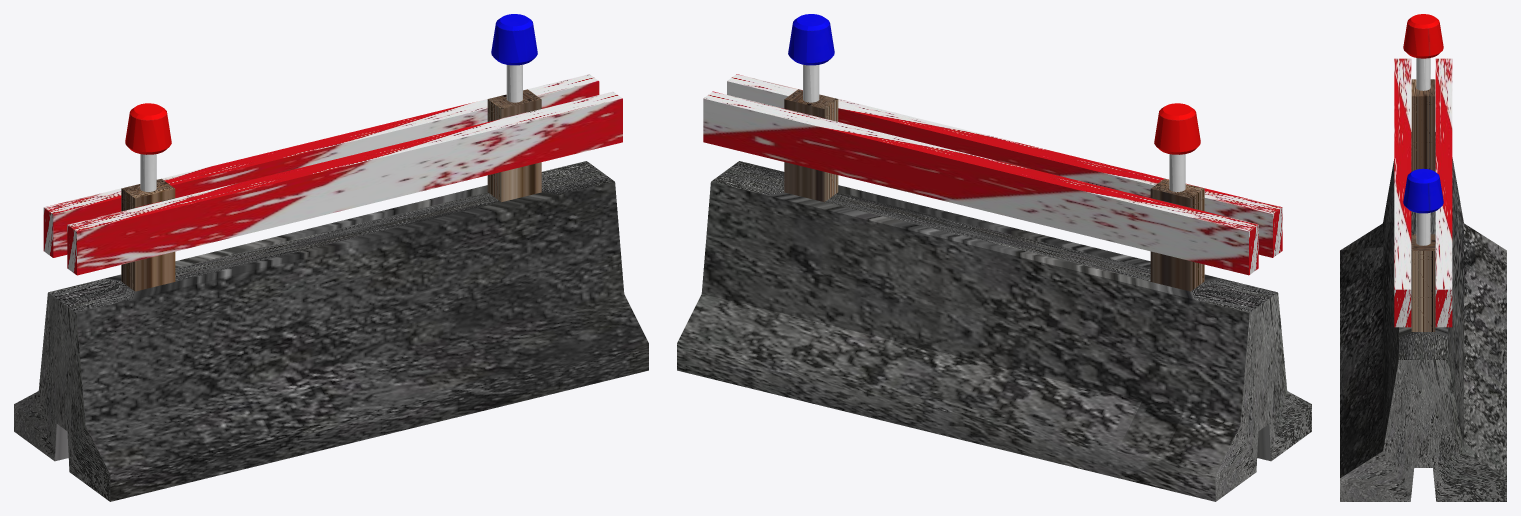
The model's file is BarricadeV2.fbx.
3 renders of one model, left to right at view 1: azimuth 30°, elevation 25°; view 2: azimuth 150°, elevation 25°; view 3: azimuth 270°, elevation 25°, orthographic. The views are drawn at different scales.
Visible parts, largest first — view 1: shard25, shard12, shard44, shard38, shard37, shard7, shard47, shard27, shard17, shard40, shard49, shard15; view 2: shard7, shard19, shard37, shard48, shard12, shard17, shard25, shard27, shard38, shard39, shard40, shard49 (+1 smaller); view 3: shard25, shard19, shard47, shard17, shard12, shard37, shard7, shard49, shard44, shard48, shard40, shard38 (+12 smaller).
Part boxes in pixels (x1,y1,x2,y2): shard25: (174,161,614,450); shard12: (67,91,622,275); shard44: (70,384,589,501); shard38: (48,292,141,474); shard37: (43,74,599,257); shard7: (48,186,480,411); shard47: (568,182,648,383); shard27: (175,109,501,281); shard17: (14,293,68,461); shard40: (121,178,175,210); shard49: (487,89,541,118); shard15: (498,25,519,65); shard7: (800,200,1277,477); shard19: (677,307,1141,477); shard37: (703,91,1258,275); shard48: (702,195,1150,317); shard12: (727,74,1282,257); shard17: (677,294,1268,501); shard25: (701,161,1150,293); shard27: (784,162,1150,281); shard38: (1249,292,1311,460); shard39: (1160,411,1239,460); shard40: (1150,178,1204,211); shard49: (784,89,838,118); shard25: (1340,201,1463,454); shard19: (1464,265,1506,477); shard47: (1340,360,1432,501); shard17: (1399,223,1506,501); shard12: (1394,58,1411,327); shard37: (1435,58,1452,327); shard7: (1383,105,1506,406); shard49: (1411,234,1435,297); shard44: (1340,247,1382,291); shard48: (1448,239,1463,449); shard40: (1411,79,1435,141); shard38: (1341,159,1394,250).
Bounding box in the file's own units: 4.3 × 2.53 × 1.31.
Materials: 4 (4 with a texture image).
